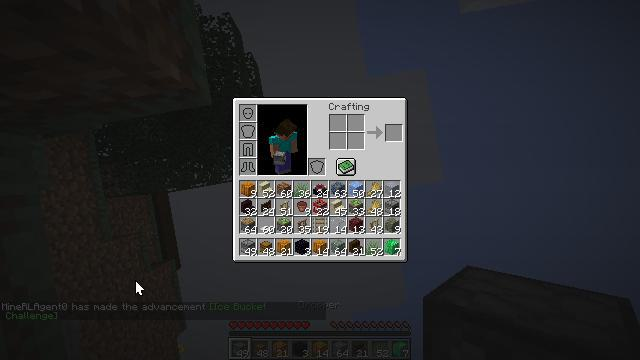cursor: (135, 280, 145, 296)
